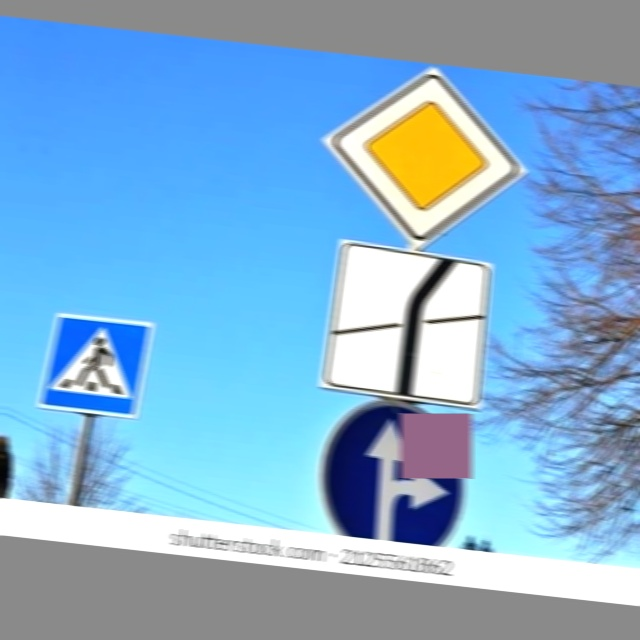Compulsory_Ahead_or_Turn_Right: (319, 399, 472, 547)
